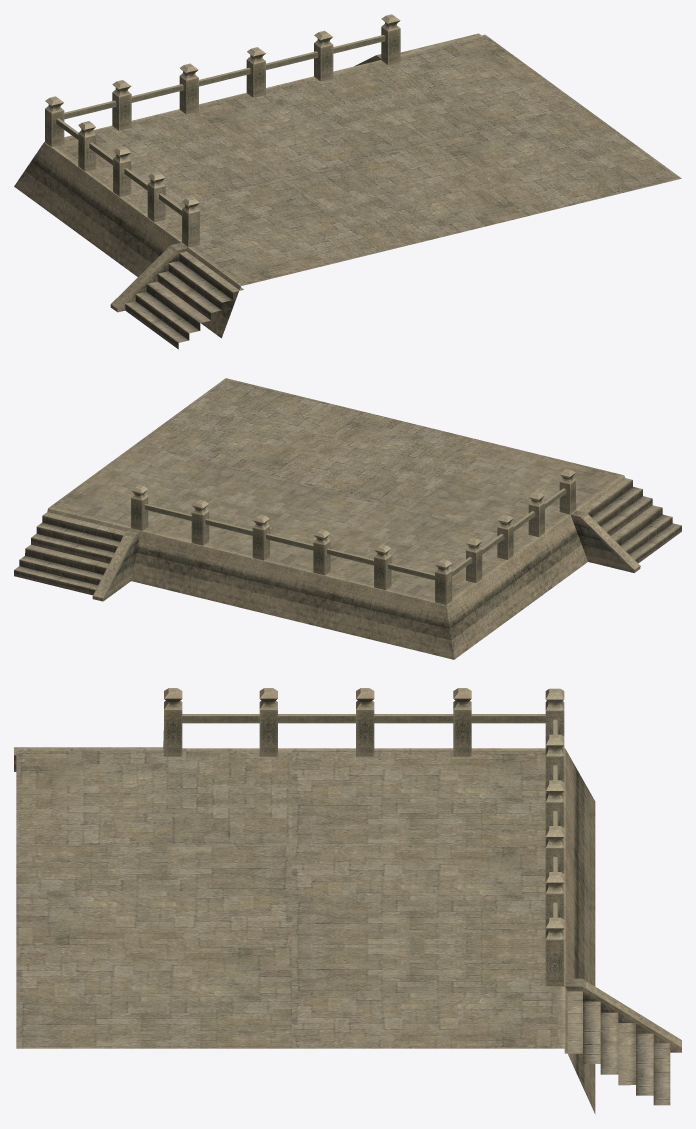
Rendered from desert_tower03.fbx.
3 renders of one model, top to bottom at view 1: azimuth 30°, elevation 25°; view 2: azimuth 150°, elevation 25°; view 3: azimuth 270°, elevation 25°, orthographic. The views are drawn at different scales.
Parts seen in each view (by area): view 1: desert_tower02_04; view 2: desert_tower02_04; view 3: desert_tower02_04.
Boxes of the visible parts, x1,y1,x2,y2 form: desert_tower02_04: (14, 14, 681, 349); desert_tower02_04: (14, 378, 681, 659); desert_tower02_04: (14, 688, 681, 1113).
Bounding box in the file's own units: 42.51 × 7.32 × 34.46.
